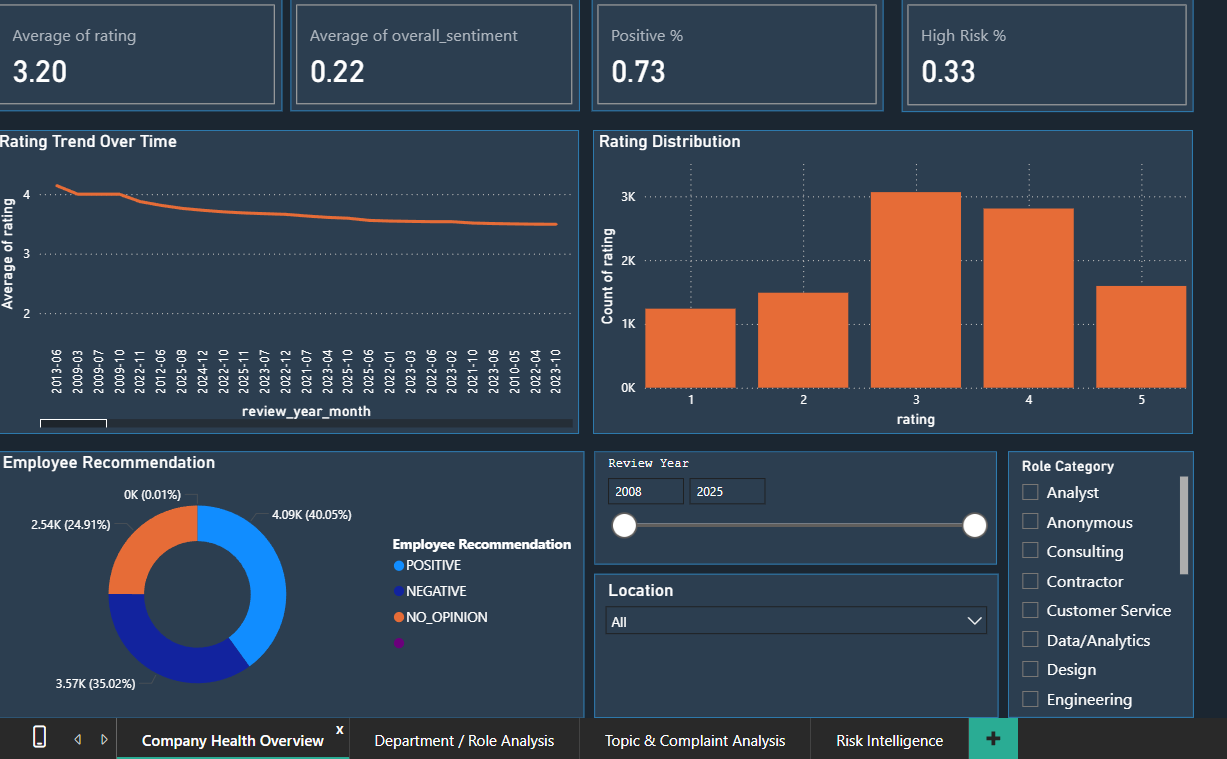

Layout of this report page (visuals, bound fields, positions):
{"tool":"powerbi","page":{"name":"Company Health Overview","canvas":[1280,720],"ordinal":0},"visuals":[{"type":"lineChart","title":"Rating Trend Over Time","fields":{"Category":["glassdoor_cleaned_for_powerbi.review_year_month"],"Y":["Avg(glassdoor_cleaned_for_powerbi.rating)"]},"box":[0,142.3,575.5,298.2],"z":0},{"type":"clusteredColumnChart","title":"Rating Distribution","fields":{"Category":["glassdoor_cleaned_for_powerbi.rating"],"Y":["CountNonNull(glassdoor_cleaned_for_powerbi.rating)"]},"box":[589,142.3,589,298.2],"z":1000},{"type":"donutChart","title":"Employee Recommendation","fields":{"Category":["glassdoor_cleaned_for_powerbi.ratingRecommendToFriend"],"Y":["CountNonNull(glassdoor_cleaned_for_powerbi.ratingRecommendToFriend)"]},"box":[3.7,457.7,576.7,262.6],"z":2000},{"type":"slicer","fields":{"Values":["glassdoor_cleaned_for_powerbi.review_year"]},"box":[589.6,457.4,395.2,111.4],"z":3000},{"type":"cardVisual","fields":{"Data":["Avg(glassdoor_cleaned_for_powerbi.rating)"]},"box":[0,13,283.8,110.1],"z":4000},{"type":"cardVisual","fields":{"Data":["Avg(glassdoor_cleaned_for_powerbi.overall_sentiment)"]},"box":[291.6,13,283.8,110.1],"z":5000},{"type":"cardVisual","fields":{"Data":["glassdoor_cleaned_for_powerbi.Positive %"]},"box":[588.3,13,286.4,110.1],"z":6000},{"type":"cardVisual","fields":{"Data":["glassdoor_cleaned_for_powerbi.High Risk %"]},"box":[891.5,13,286.4,111.4],"z":7000},{"type":"slicer","fields":{"Values":["glassdoor_cleaned_for_powerbi.role_category"]},"box":[996.5,457.4,182.7,261.8],"z":8000},{"type":"slicer","fields":{"Values":["glassdoor_cleaned_for_powerbi.city"]},"box":[589.6,577.9,396.5,141.2],"z":9000}]}

Visuals, with their boxes on the page's 1280x720 design canvas (x1, y1, x2, y2). These are canvas units, not pixel positions in the 1227x759 screenshot, which may show the page scaled, cropped or inside an application window:
"Rating Trend Over Time" lineChart: [left=0, top=142, right=576, bottom=440]
"Rating Distribution" clusteredColumnChart: [left=589, top=142, right=1178, bottom=440]
"Employee Recommendation" donutChart: [left=4, top=458, right=580, bottom=720]
slicer - glassdoor_cleaned_for_powerbi.review_year: [left=590, top=457, right=985, bottom=569]
cardVisual - Avg(glassdoor_cleaned_for_powerbi.rating): [left=0, top=13, right=284, bottom=123]
cardVisual - Avg(glassdoor_cleaned_for_powerbi.overall_sentiment): [left=292, top=13, right=575, bottom=123]
cardVisual - glassdoor_cleaned_for_powerbi.Positive %: [left=588, top=13, right=875, bottom=123]
cardVisual - glassdoor_cleaned_for_powerbi.High Risk %: [left=892, top=13, right=1178, bottom=124]
slicer - glassdoor_cleaned_for_powerbi.role_category: [left=996, top=457, right=1179, bottom=719]
slicer - glassdoor_cleaned_for_powerbi.city: [left=590, top=578, right=986, bottom=719]
